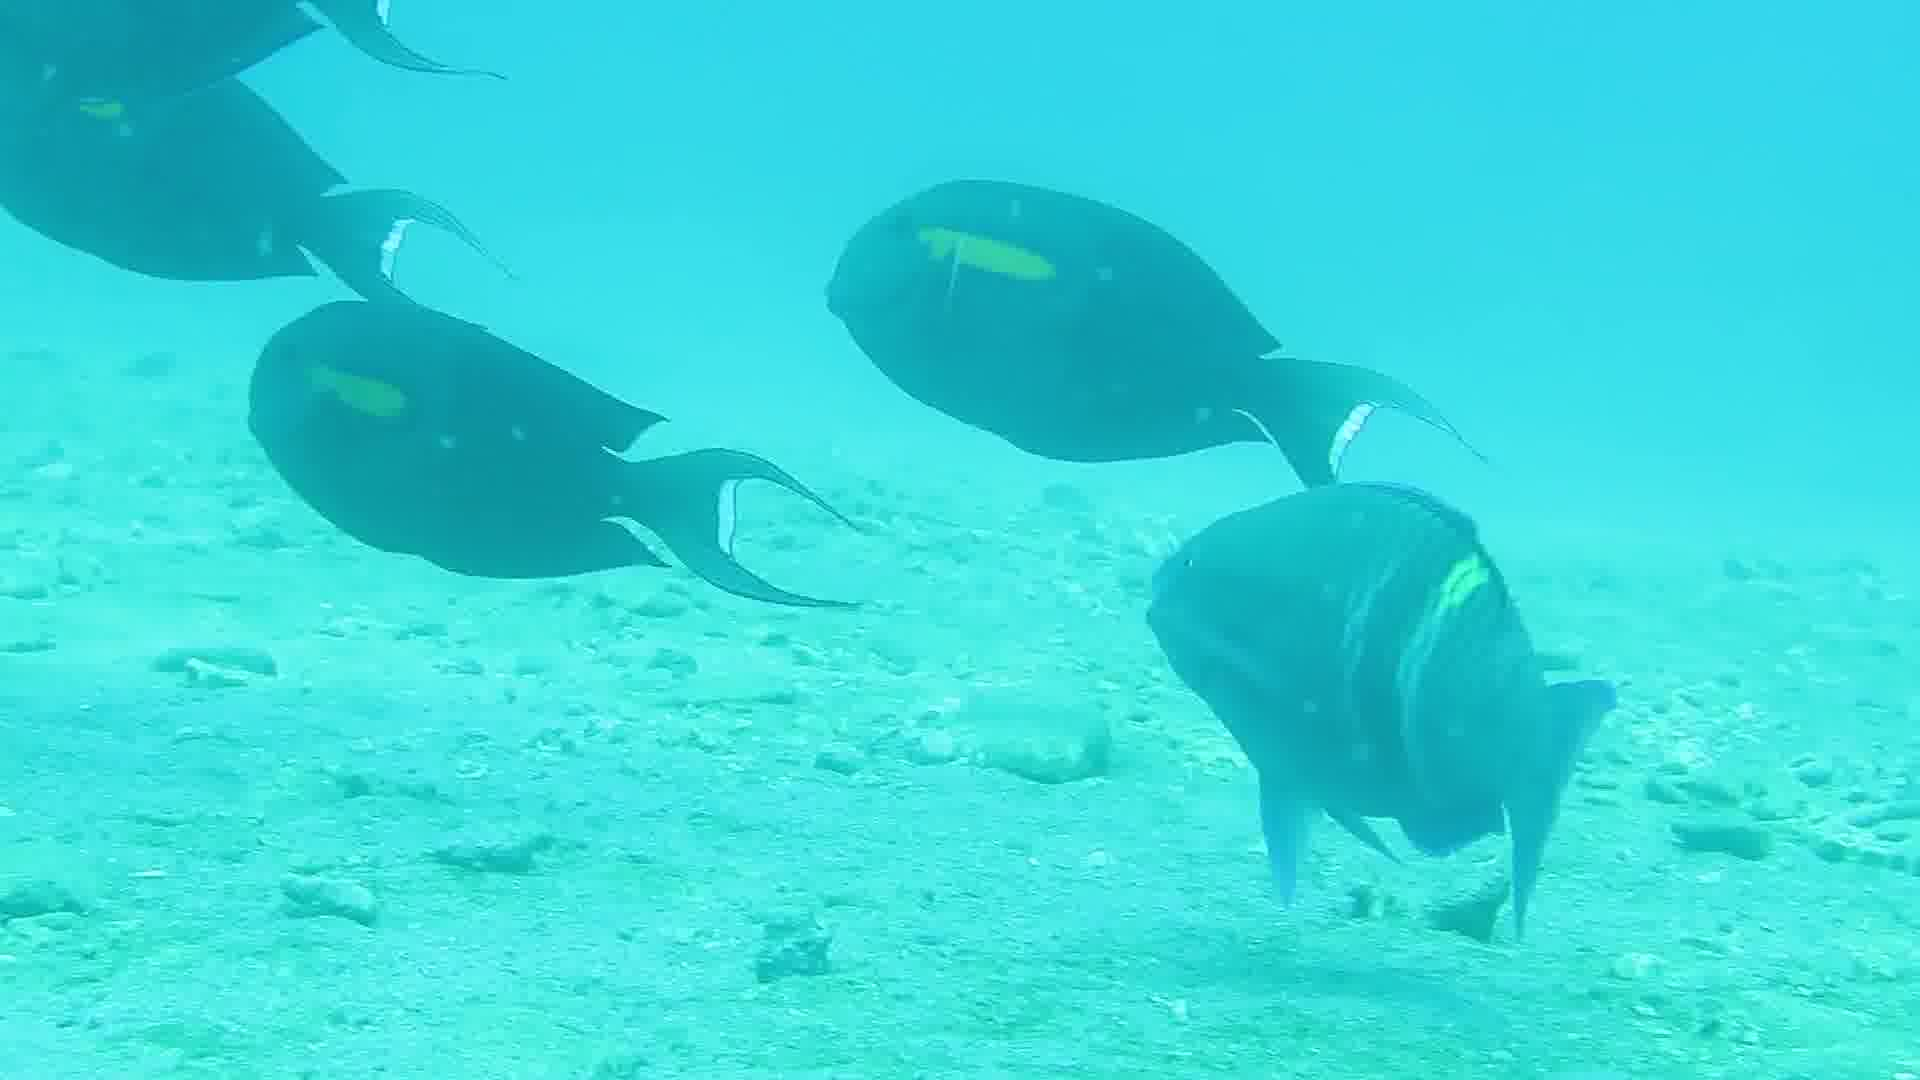Acanthurus olivaceus: (1083, 469, 1673, 928), (791, 145, 1403, 475), (240, 299, 673, 595), (3, 3, 434, 298)
